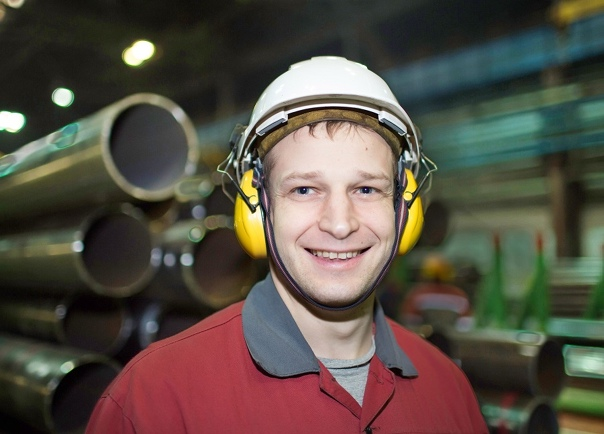person: (84, 55, 490, 434)
